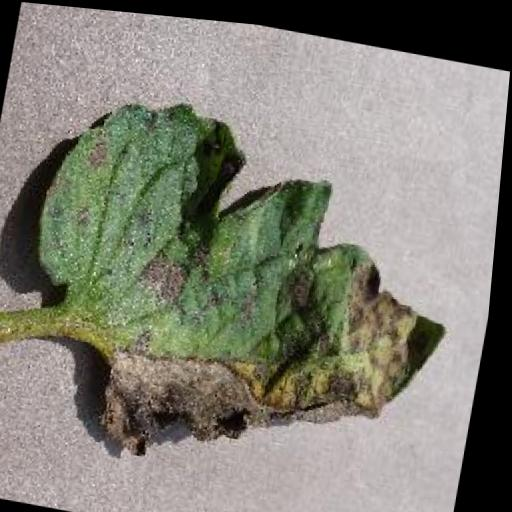Early Blight: (9, 74, 459, 489)
